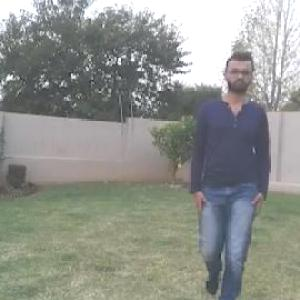follow: (192, 47, 271, 299)
